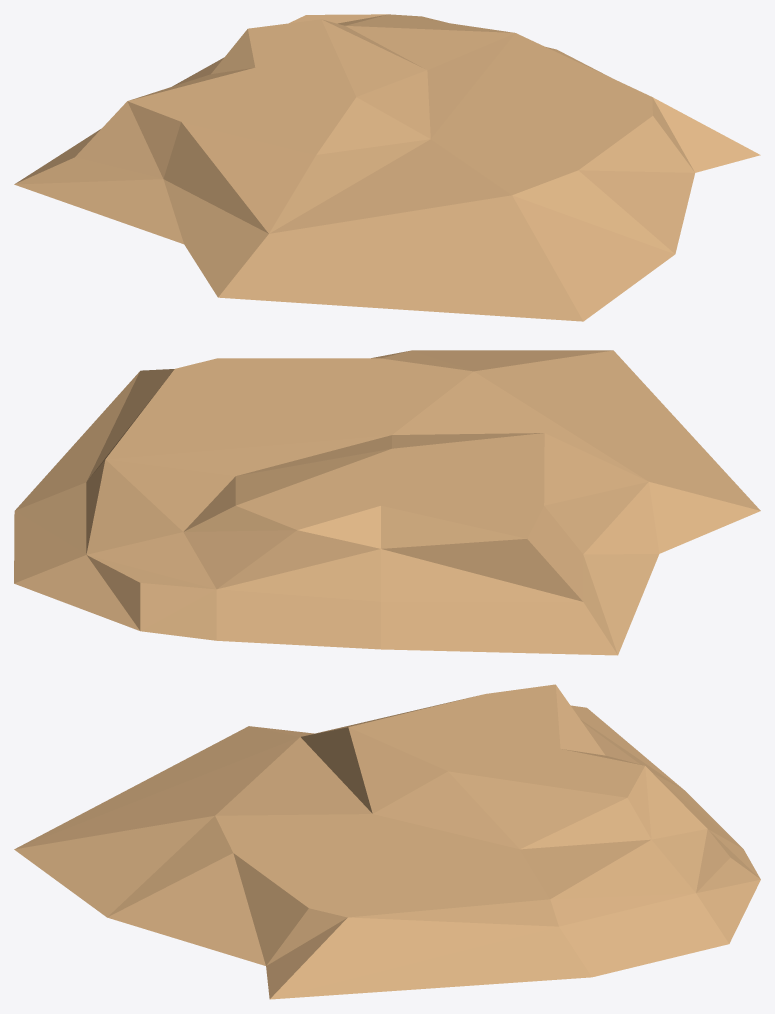
Rendered from Rock_18.fbx.
3 views of the same model, one above another, from view 1: azimuth 30°, elevation 25°; view 2: azimuth 150°, elevation 25°; view 3: azimuth 270°, elevation 25° (orthographic). The views are drawn at different scales.
Visible parts, largest first — view 1: Rock_18; view 2: Rock_18; view 3: Rock_18.
Part boxes in pixels (x1,y1,x2,y2): Rock_18: (14, 14, 760, 321); Rock_18: (14, 350, 760, 655); Rock_18: (14, 684, 760, 999).
Bounding box in the file's own units: 577 × 625 × 66.17.
